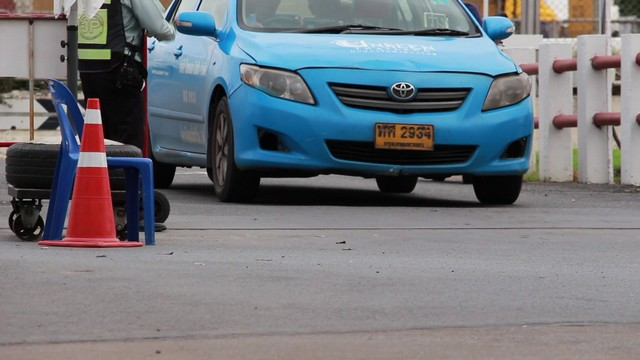in: (377, 125, 432, 147)
out: (372, 120, 438, 154)
